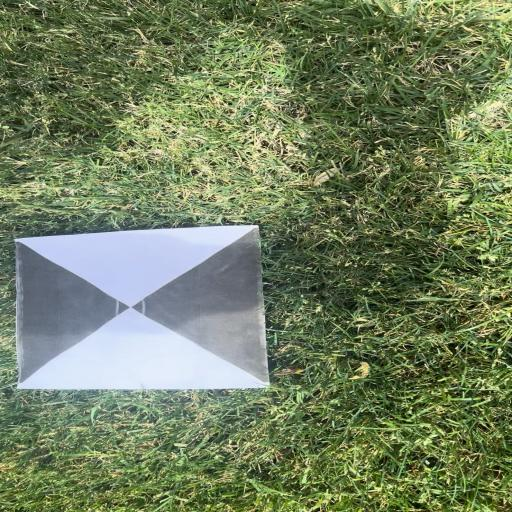target: (18, 239, 272, 388)
